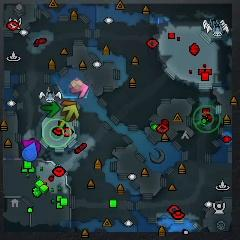p1: (22, 143, 38, 162)
p3: (22, 138, 41, 152)
x1: (70, 78, 89, 98)
x2: (64, 105, 79, 122)
x4: (42, 102, 60, 117)
x5: (61, 100, 77, 108)
